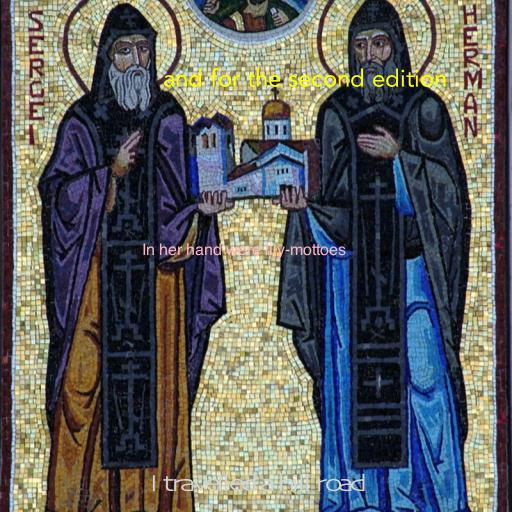Avenir: (163, 68, 447, 87)
Impact: (142, 243, 346, 259)
Skia: (149, 473, 363, 492)
